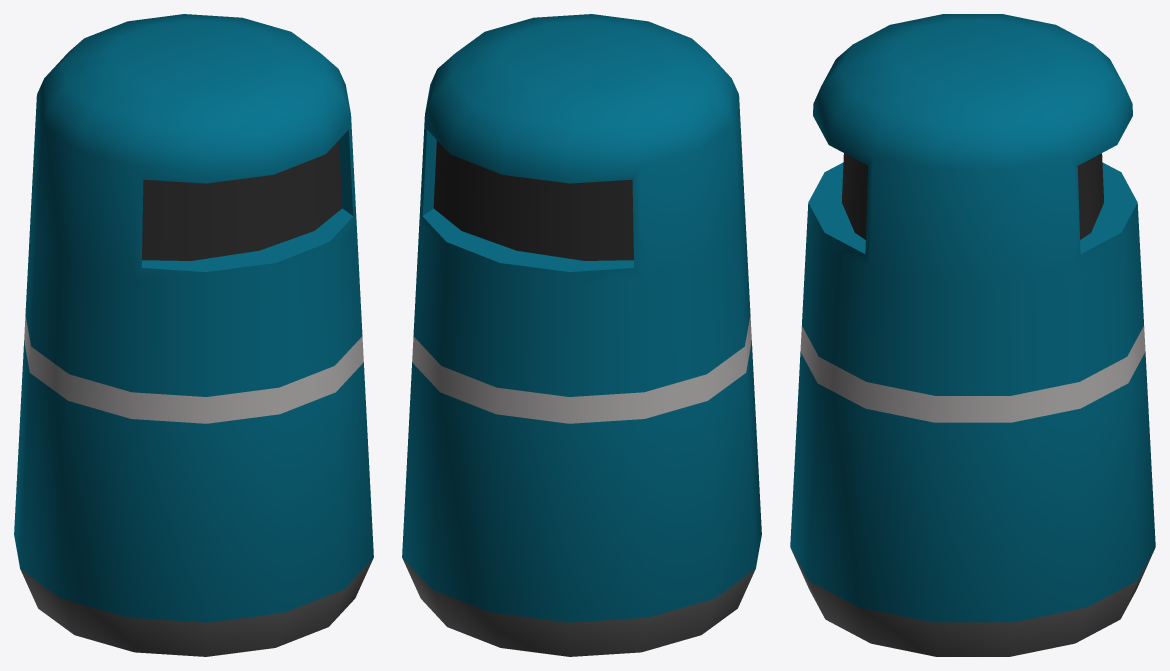
Rendered from M_Trashcan_1.fbx.
The picture shows the model from 3 angles, left to right: view 1: azimuth 30°, elevation 25°; view 2: azimuth 150°, elevation 25°; view 3: azimuth 270°, elevation 25°; orthographic projection.
Visible parts, largest first — view 1: M_Trashcan_1; view 2: M_Trashcan_1; view 3: M_Trashcan_1.
Boxes of the visible parts, x1,y1,x2,y2 form: M_Trashcan_1: [14, 14, 373, 656]; M_Trashcan_1: [402, 14, 761, 656]; M_Trashcan_1: [790, 14, 1155, 656].
Size of the model in its own units: 248 by 411 by 255.
